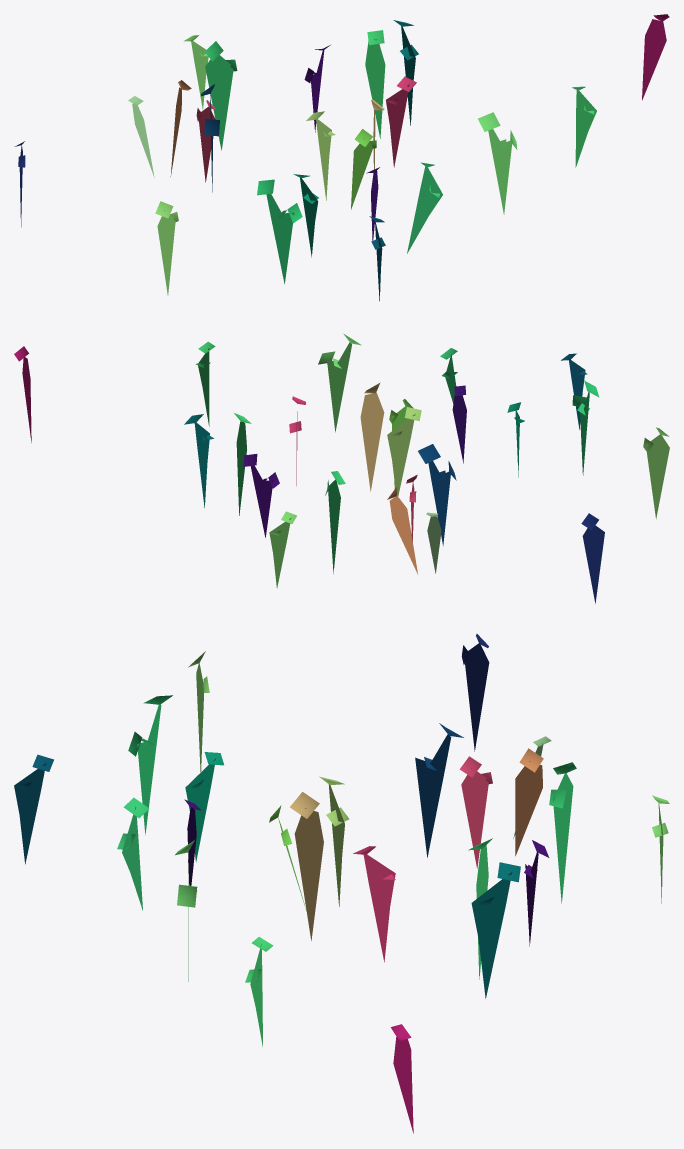
The model's file is SM_Buttercup_Patch_01.FBX.
3 renders of one model, top to bottom at view 1: azimuth 30°, elevation 25°; view 2: azimuth 150°, elevation 25°; view 3: azimuth 270°, elevation 25°, orthographic. The views are drawn at different scales.
Parts seen in each view (by area): view 1: SM_Buttercup_Patch_01_LOD0; view 2: SM_Buttercup_Patch_01_LOD0; view 3: SM_Buttercup_Patch_01_LOD0.
Part boxes in pixels (x1,y1,x2,y2): SM_Buttercup_Patch_01_LOD0: (14, 14, 669, 301); SM_Buttercup_Patch_01_LOD0: (14, 333, 669, 603); SM_Buttercup_Patch_01_LOD0: (14, 634, 669, 1133).
Bounding box in the file's own units: 321 × 221 × 55.02.
